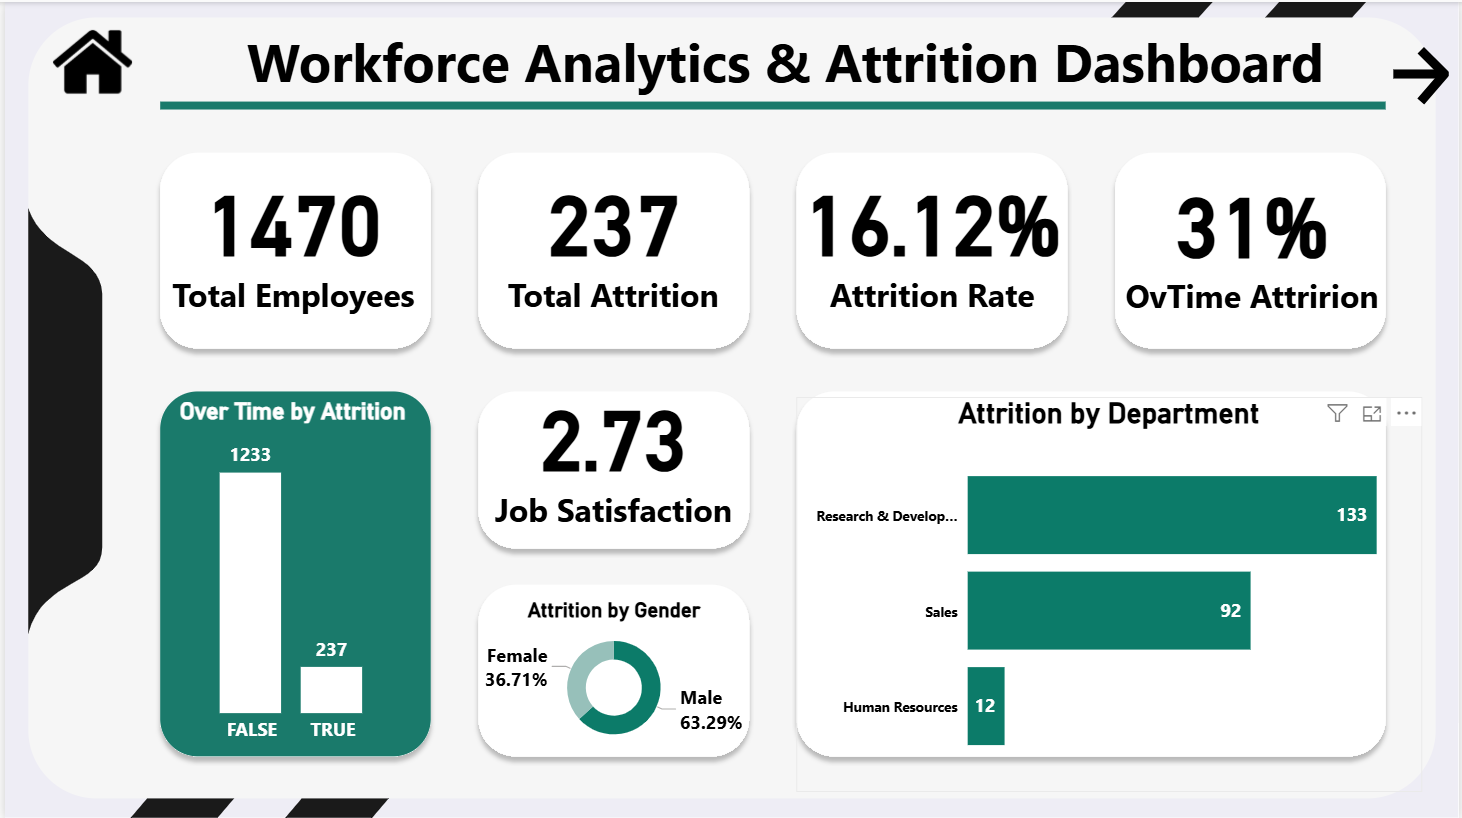

The page's visual inventory and layout, read from the dashboard file:
{"tool":"powerbi","page":{"name":"HR Summary","canvas":[1280,720],"ordinal":1},"visuals":[{"type":"textbox","title":"Workforce Analytics & Attrition Dashboard","box":[186.2,20,1001.2,96.2],"z":0},{"type":"card","fields":{"Values":["Measures (2).Total Employees"]},"box":[134.5,124.6,239.3,163.1],"z":1000},{"type":"card","fields":{"Values":["Measures (2).Total Attrition"]},"box":[415.5,124.6,239.3,163.1],"z":2000},{"type":"card","fields":{"Values":["Measures (2).Overtime Attririon"]},"box":[977.4,124.8,239.3,163.1],"z":3000},{"type":"card","fields":{"Values":["Measures (2).Attrition Rate %"]},"box":[696.4,124.6,239.3,163.1],"z":4000},{"type":"clusteredColumnChart","title":"Over Time by Attrition","fields":{"Category":["HR-Employee-Attrition.Attrition"],"Y":["CountNonNull(HR-Employee-Attrition.OverTime)"]},"box":[120.2,347.6,266.7,314.3],"z":5000},{"type":"donutChart","title":"Attrition by Gender","fields":{"Y":["Measures (2).Total Attrition"],"Category":["HR-Employee-Attrition.Gender"]},"box":[416.7,525,238.1,136.9],"z":6000},{"type":"card","fields":{"Values":["Measures (2).Avg Job Satisfaction"]},"box":[415.5,313.1,239.3,163.1],"z":7000},{"type":"barChart","title":"Attrition by Department","fields":{"Category":["HR-Employee-Attrition.Department"],"Y":["Measures (2).Total Attrition"]},"box":[696.4,347.6,550,347.6],"z":8000},{"type":"actionButton","box":[1208.3,35.7,71.4,59.5],"z":9000},{"type":"actionButton","box":[20.2,8.3,114.3,86.9],"z":10000}]}

Visuals, with their boxes in screenshot pixels (x1, y1, x2, y2), scaled from the page's 1280x720 canvas onto the 1462x818 screenshot:
"Workforce Analytics & Attrition Dashboard" textbox: region(213, 23, 1356, 132)
card - Measures (2).Total Employees: region(154, 142, 427, 327)
card - Measures (2).Total Attrition: region(475, 142, 748, 327)
card - Measures (2).Overtime Attririon: region(1116, 142, 1390, 327)
card - Measures (2).Attrition Rate %: region(795, 142, 1069, 327)
"Over Time by Attrition" clusteredColumnChart: region(137, 395, 442, 752)
"Attrition by Gender" donutChart: region(476, 596, 748, 752)
card - Measures (2).Avg Job Satisfaction: region(475, 356, 748, 541)
"Attrition by Department" barChart: region(795, 395, 1424, 790)
actionButton: region(1380, 41, 1461, 108)
actionButton: region(23, 9, 154, 108)
